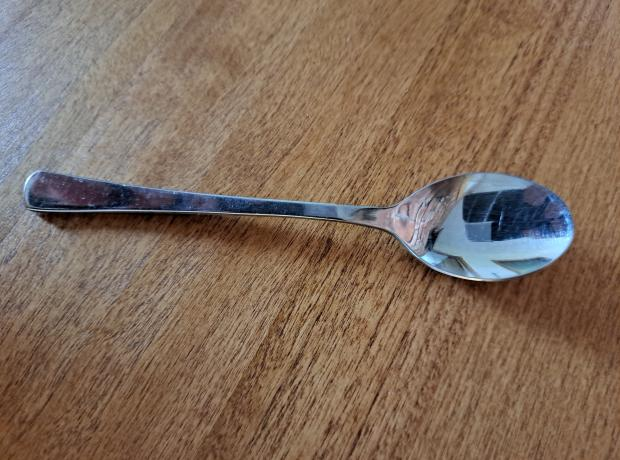metal: (23, 168, 576, 289)
